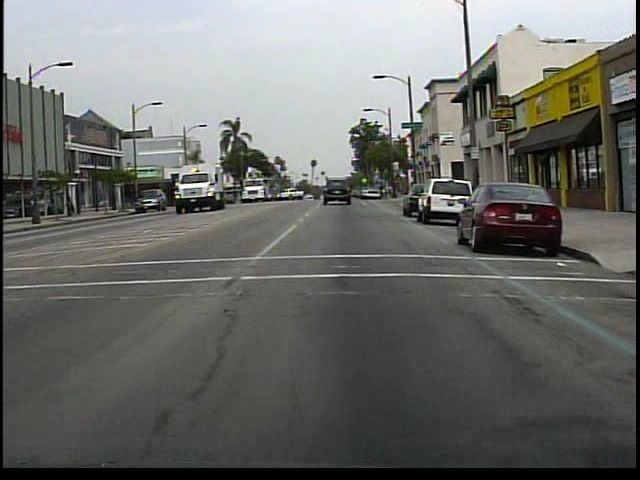person: (68, 193, 78, 218)
